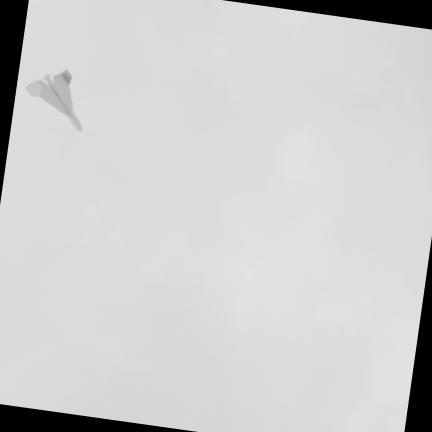Shahed: (25, 68, 80, 129)
